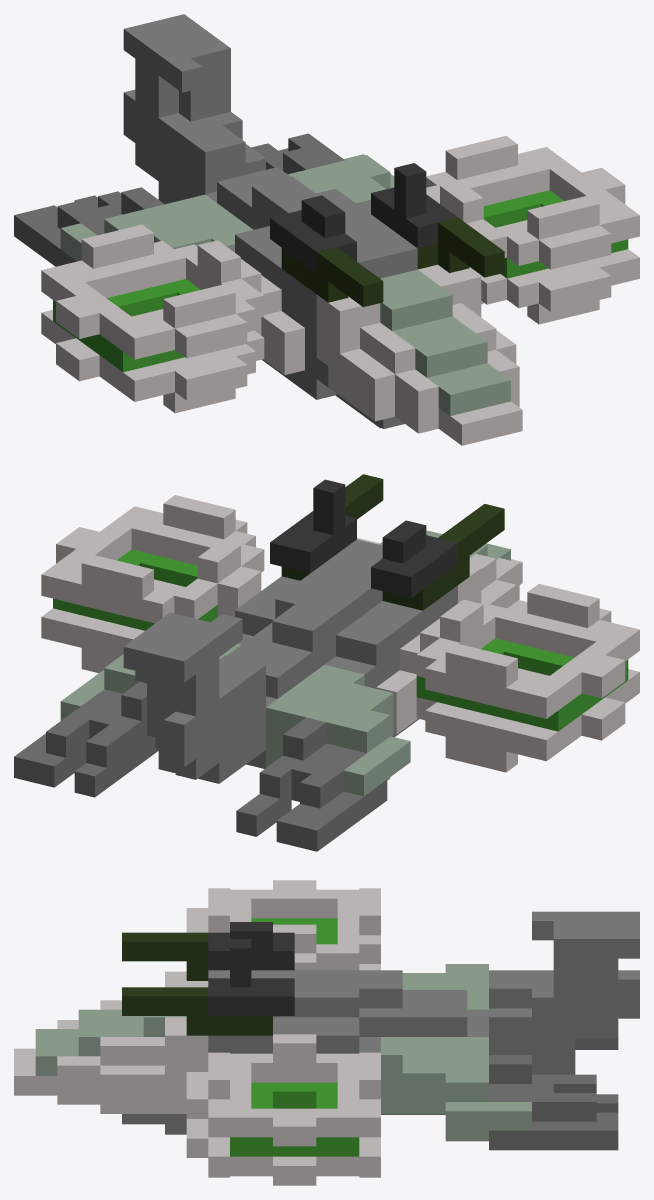
Rendered from infinity_airplane3.obj.
3 views of the same model, one above another, from view 1: azimuth 30°, elevation 25°; view 2: azimuth 150°, elevation 25°; view 3: azimuth 270°, elevation 25° (orthographic). The views are drawn at different scales.
Bounding box in the file's own units: 2.7 × 1 × 2.9.
